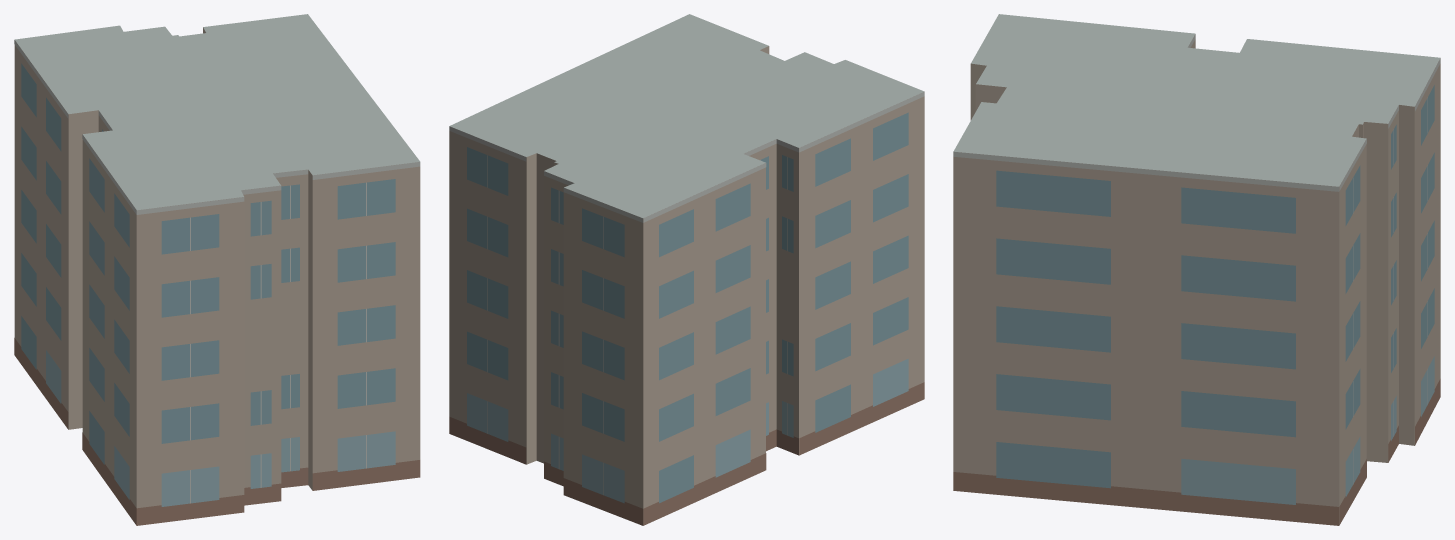
File: survey-upis-33014488.glb
The picture shows the model from 3 angles, left to right: view 1: azimuth 30°, elevation 25°; view 2: azimuth 150°, elevation 25°; view 3: azimuth 270°, elevation 25°; orthographic projection. The views are drawn at different scales.
Parts seen in each view (by area): view 1: survey-upis-33014488.tmp; view 2: survey-upis-33014488.tmp; view 3: survey-upis-33014488.tmp.
Boxes of the visible parts, x1,y1,x2,y2 form: survey-upis-33014488.tmp: (14, 14, 420, 525); survey-upis-33014488.tmp: (449, 14, 924, 525); survey-upis-33014488.tmp: (953, 14, 1440, 525).
Bounding box in the file's own units: 17.71 × 16.2 × 21.11.
